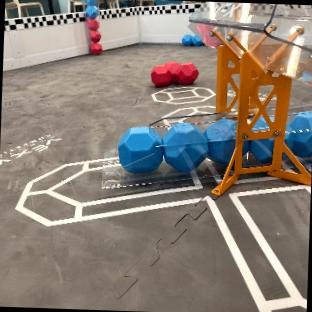V5_BLUE: (206, 118, 236, 163), (183, 34, 202, 46)
V5_RED: (151, 61, 198, 87), (88, 19, 101, 53)
